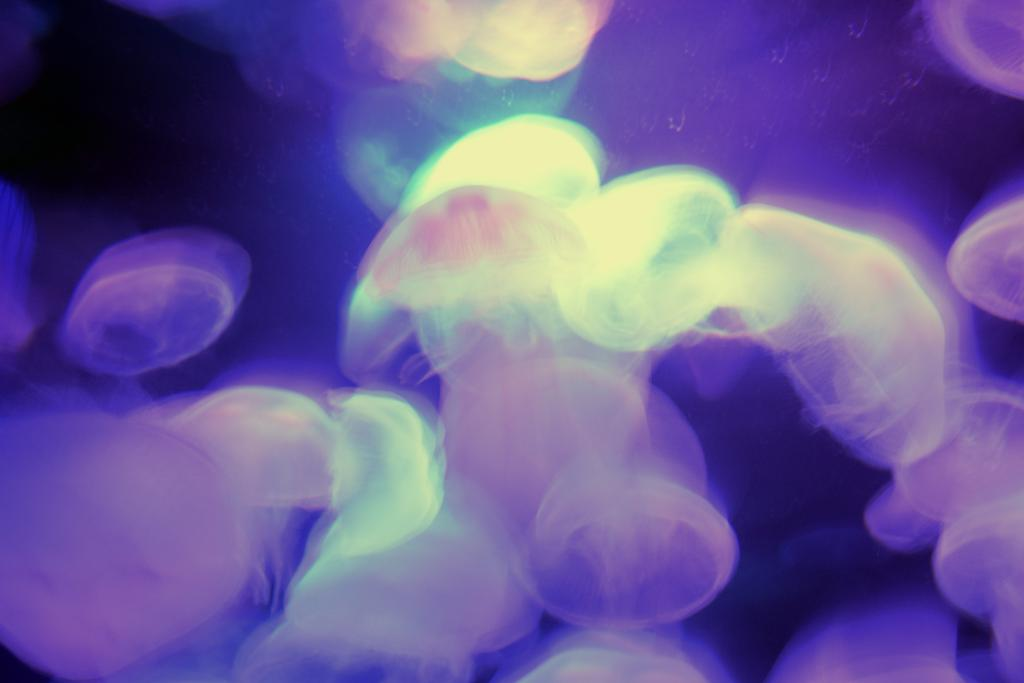Jellyfish: (0, 0, 1023, 682), (58, 223, 251, 388), (393, 109, 604, 216)
